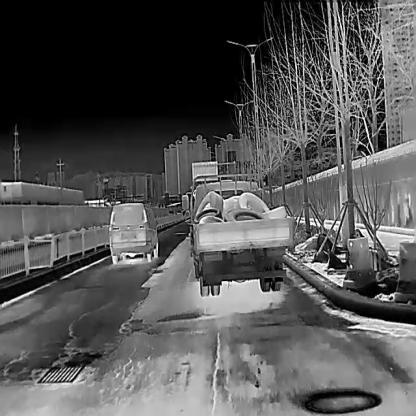car: (190, 174, 294, 296), (108, 202, 158, 264)
